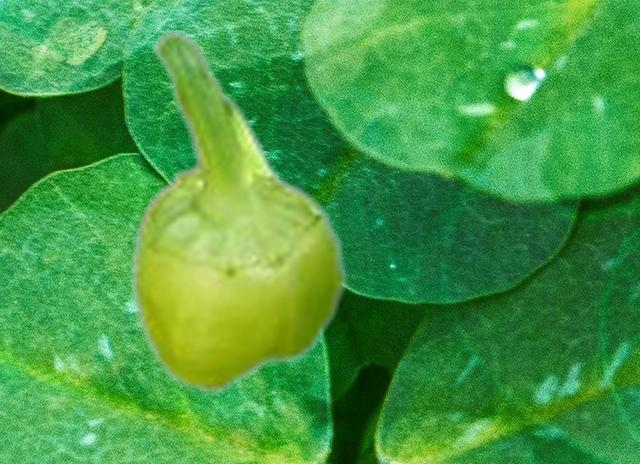bell_pepper: (128, 30, 348, 394)
